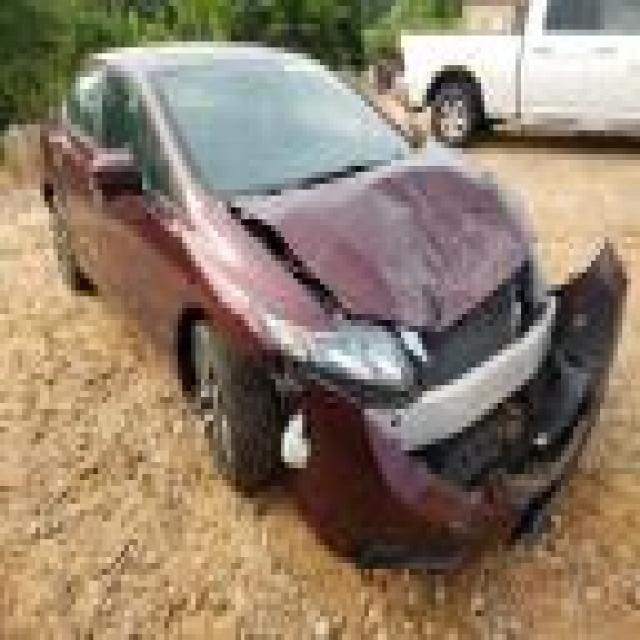severe: (154, 220, 640, 488)
